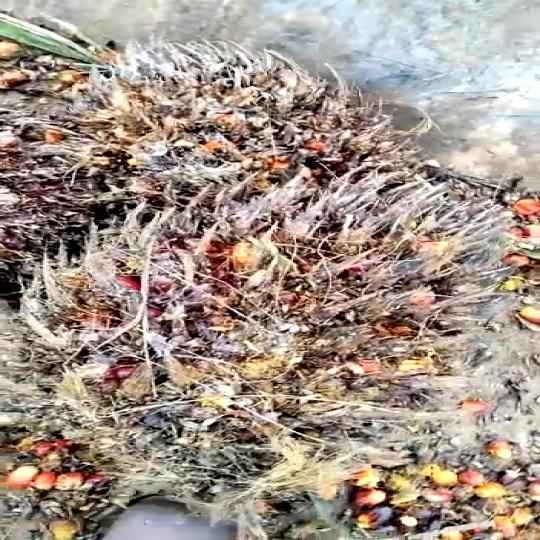terlalu masak: (14, 172, 514, 471), (0, 54, 387, 185)
